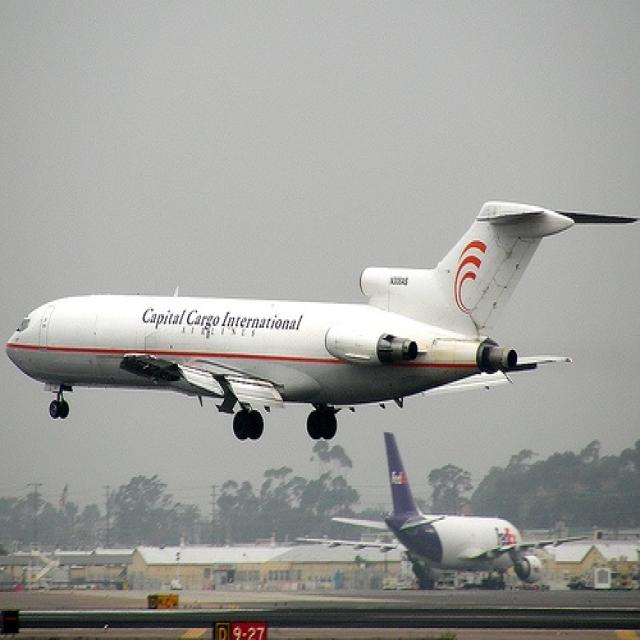aeroplane: (6, 202, 639, 442), (295, 430, 586, 593)
